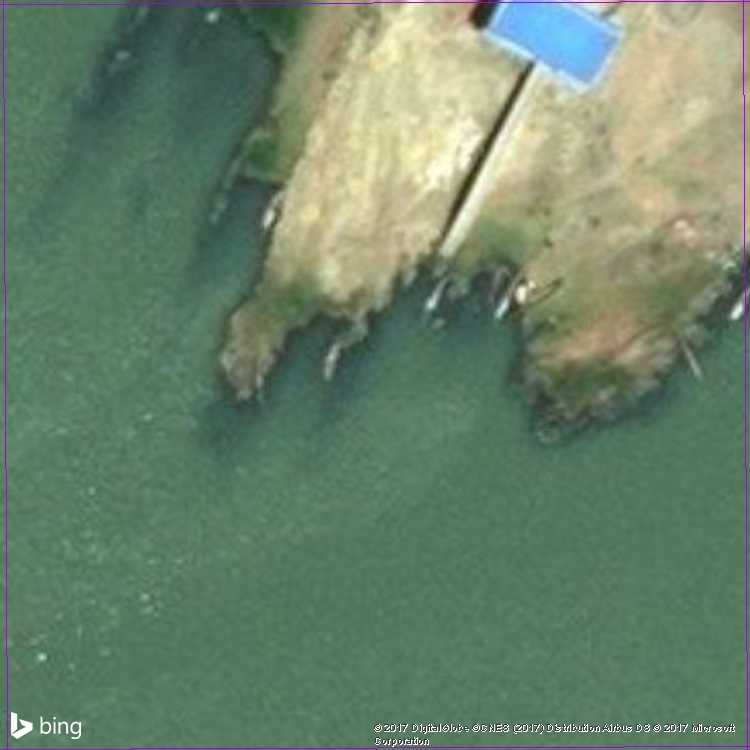boat: (491, 257, 531, 330), (510, 272, 568, 321), (415, 271, 452, 334), (317, 329, 349, 388), (257, 182, 292, 235), (675, 333, 708, 386), (246, 349, 271, 414), (728, 281, 748, 328)
